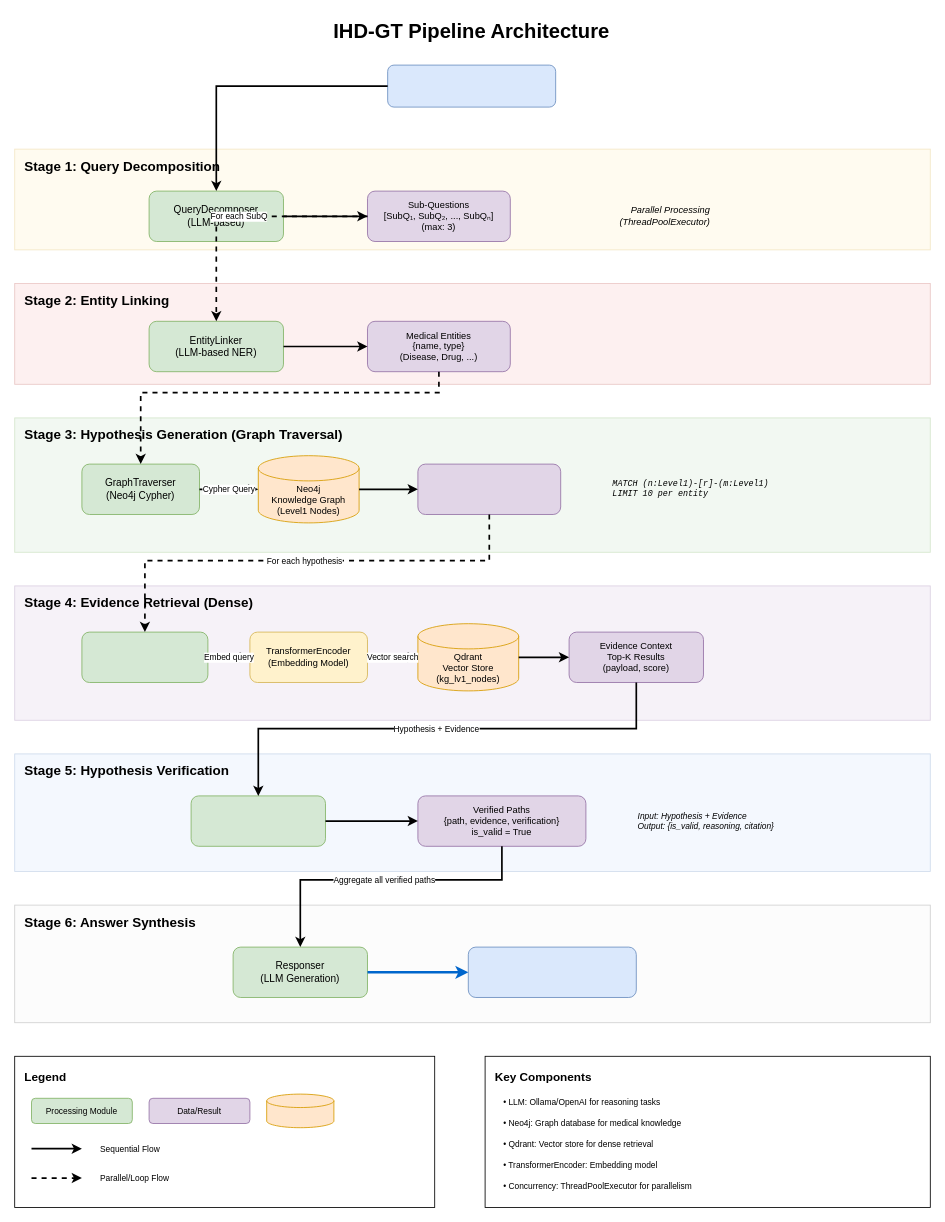
Image size: 945x1222. Some labels were removed from this diagram. The shapes that lost their labels are listed below. From the top down, each one's centre as x and y in pixels, then its label:
the point at 471,85: Clinical Query
the point at 489,488: Graph Hypotheses (head, relation, tail) Deduplication
the point at 144,656: EvidenceRetriever (Vector Search)
the point at 258,820: Verifier (LLM-based Judge)
the point at 551,972: Final Answer
the point at 300,1110: External Store
